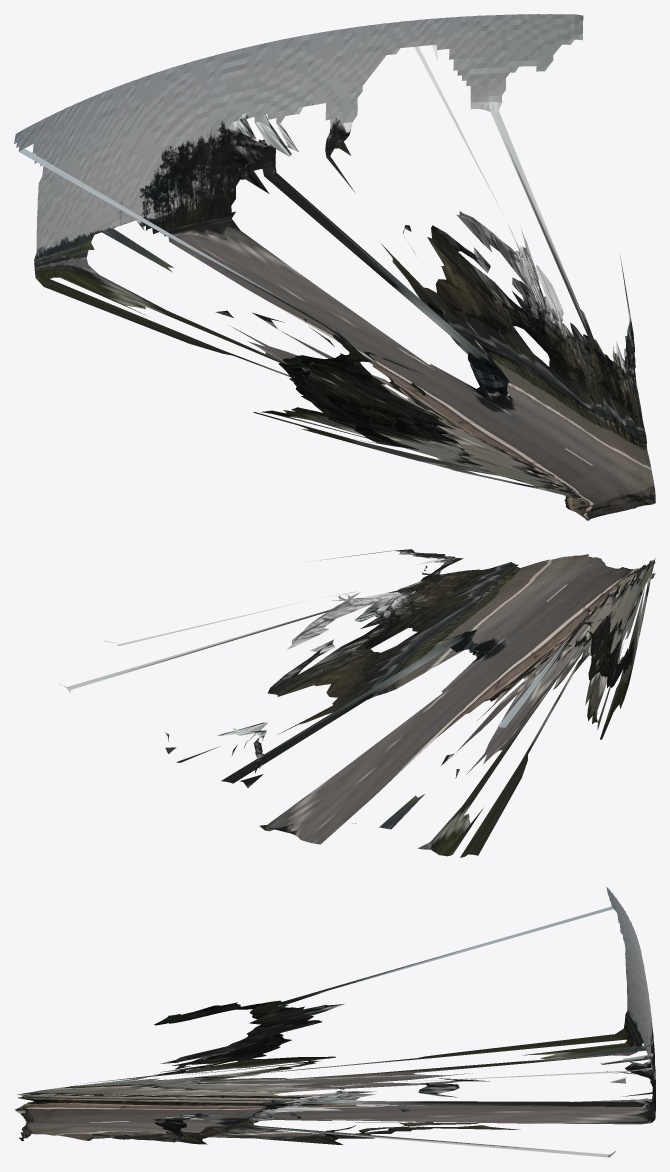
The picture shows the model from 3 angles, top to bottom: view 1: azimuth 30°, elevation 25°; view 2: azimuth 150°, elevation 25°; view 3: azimuth 270°, elevation 25°; orthographic projection. The views are drawn at different scales.
Visible parts, largest first — view 1: defaultobject; view 2: defaultobject; view 3: defaultobject.
Part boxes in pixels (box(x1,y1,x2,y2)): defaultobject: box(14, 14, 655, 520); defaultobject: box(59, 549, 655, 857); defaultobject: box(14, 887, 655, 1157).
Bounding box in the file's own units: 36.41 × 11.7 × 44.77.
1 material, 1 textured.
